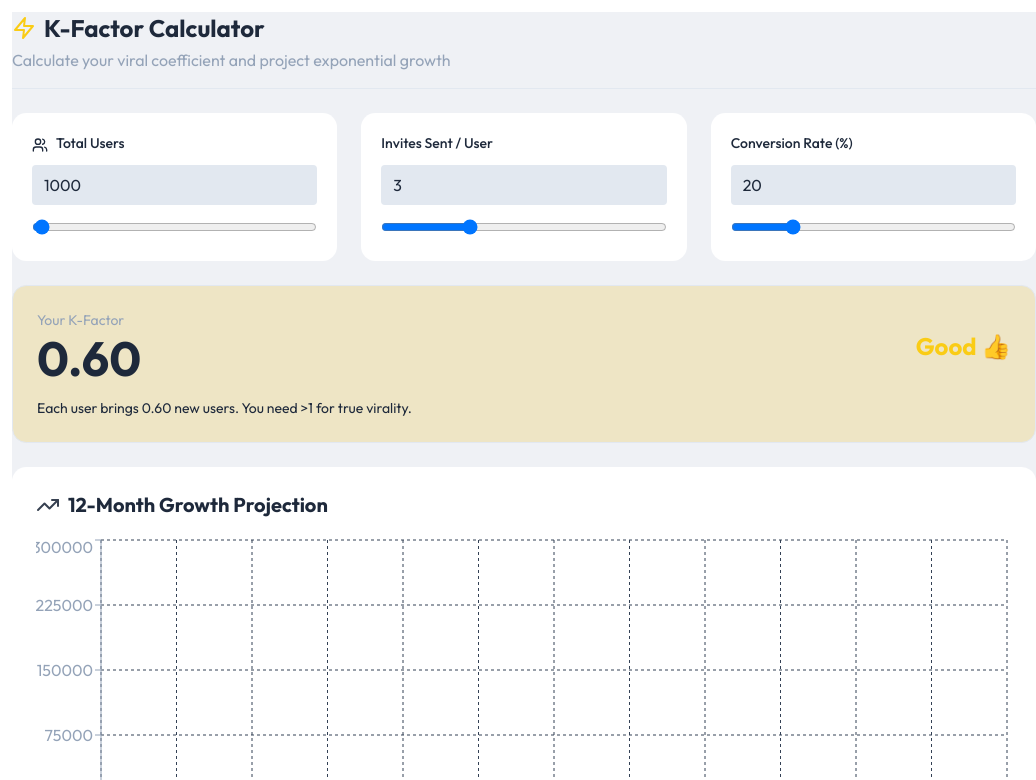
Scenario: KFactorCalculator › handles decimal invites per user
This screenshot has width=1036, height=780.
Replace the text in the number field below "Invites Sent / User" with "3.5" at x=524, y=185, box [381,165,667,205]
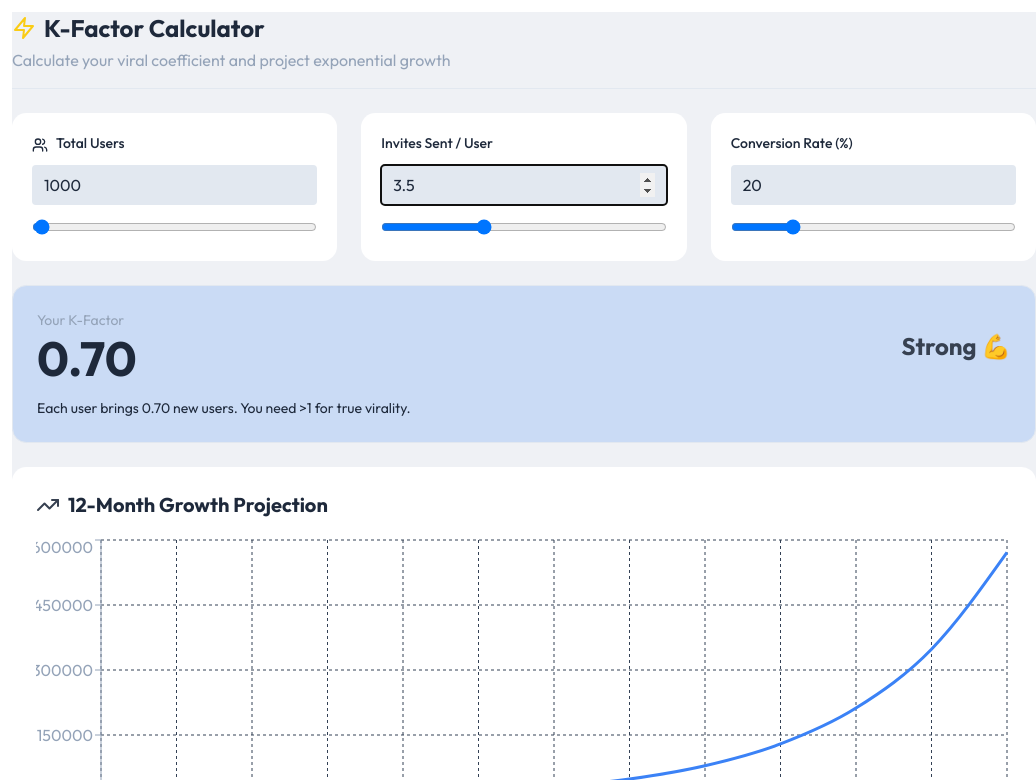
Expected: the text "0.70" is shown, [37,334,137,382]
